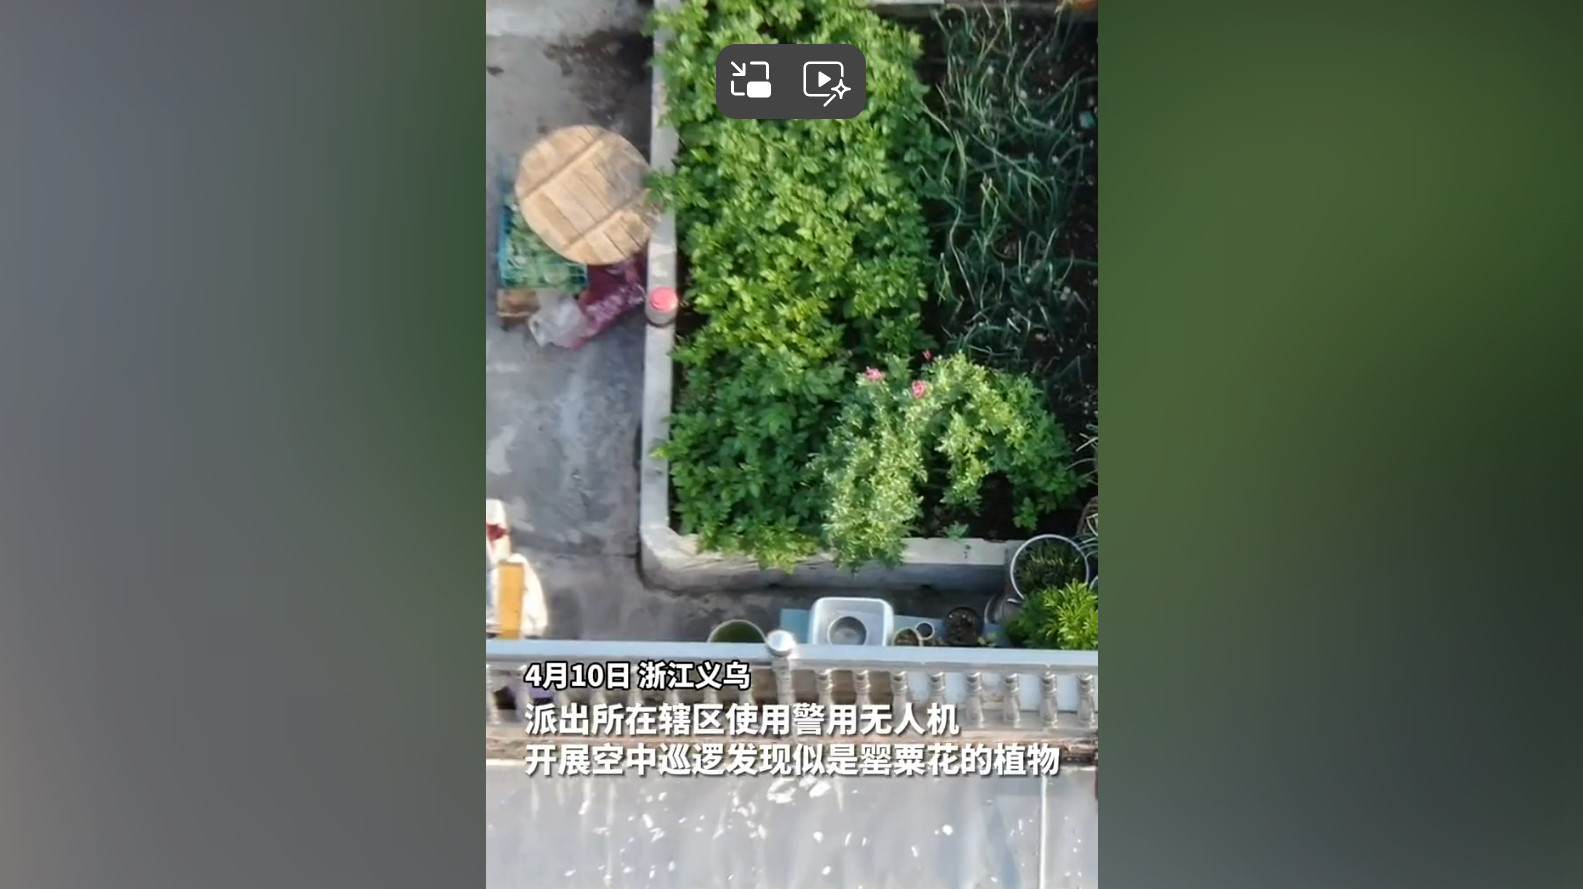Poppy: (813, 346, 956, 567)
